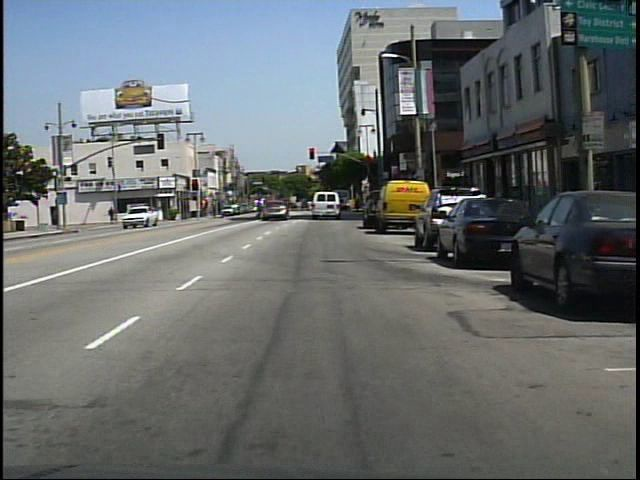person: (251, 193, 268, 222), (107, 205, 115, 225)
